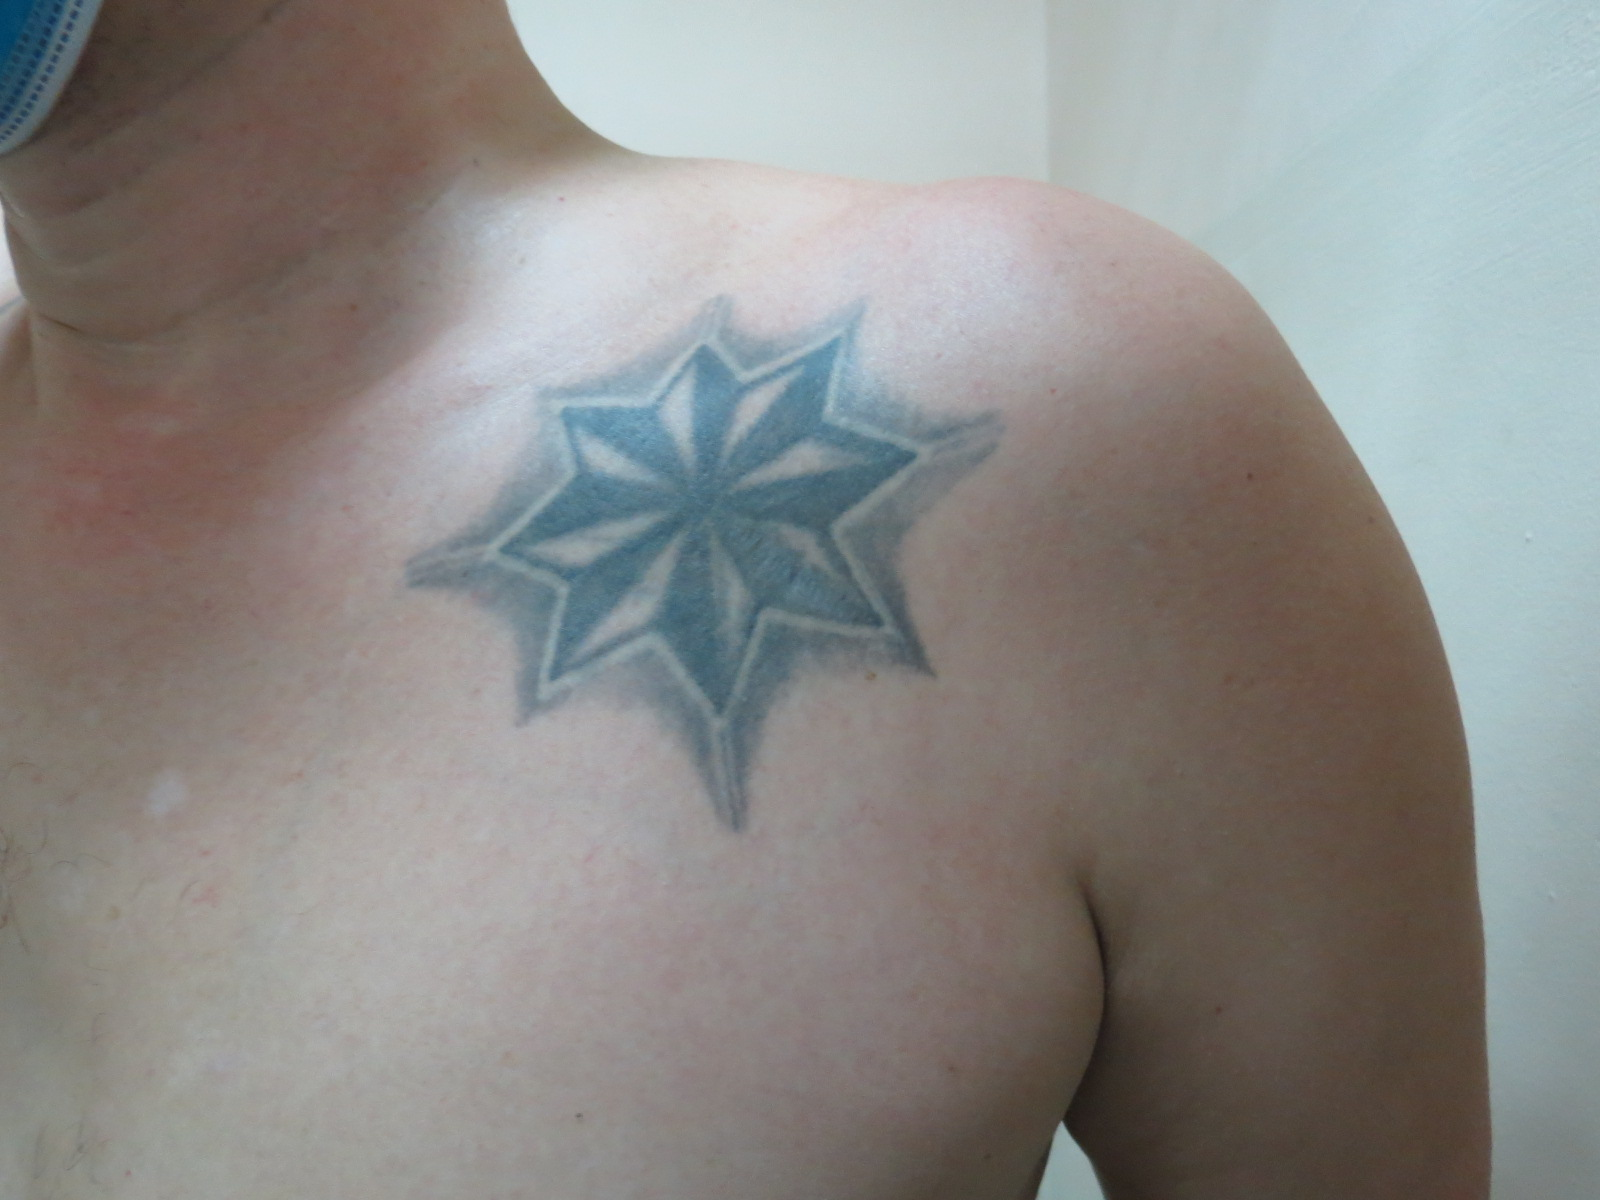tatu4_zvezda: (412, 299, 998, 824)
